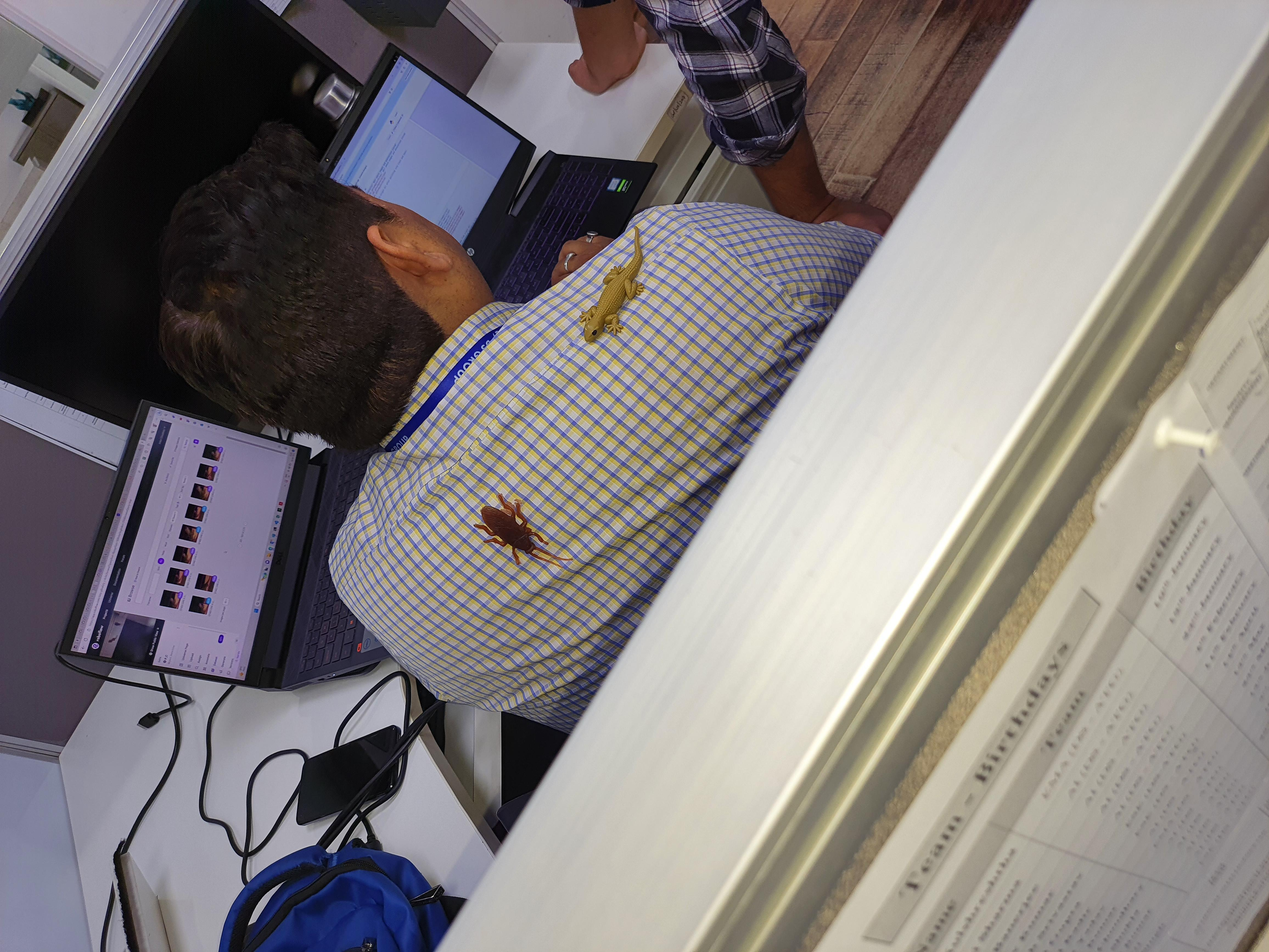cockroach: (495, 334, 639, 437)
lizard: (776, 414, 1007, 498)
